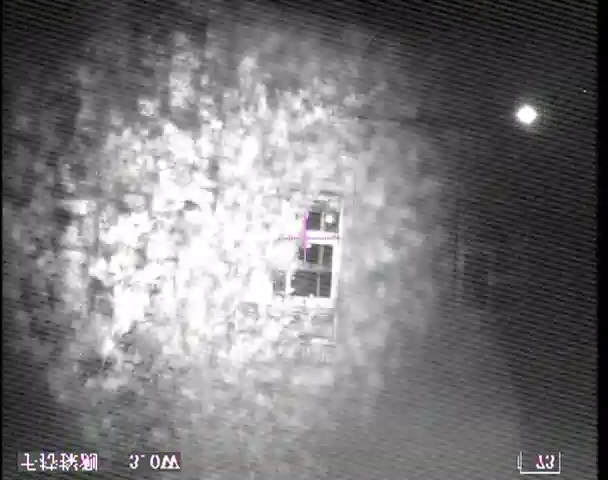my: (324, 213, 335, 225)
